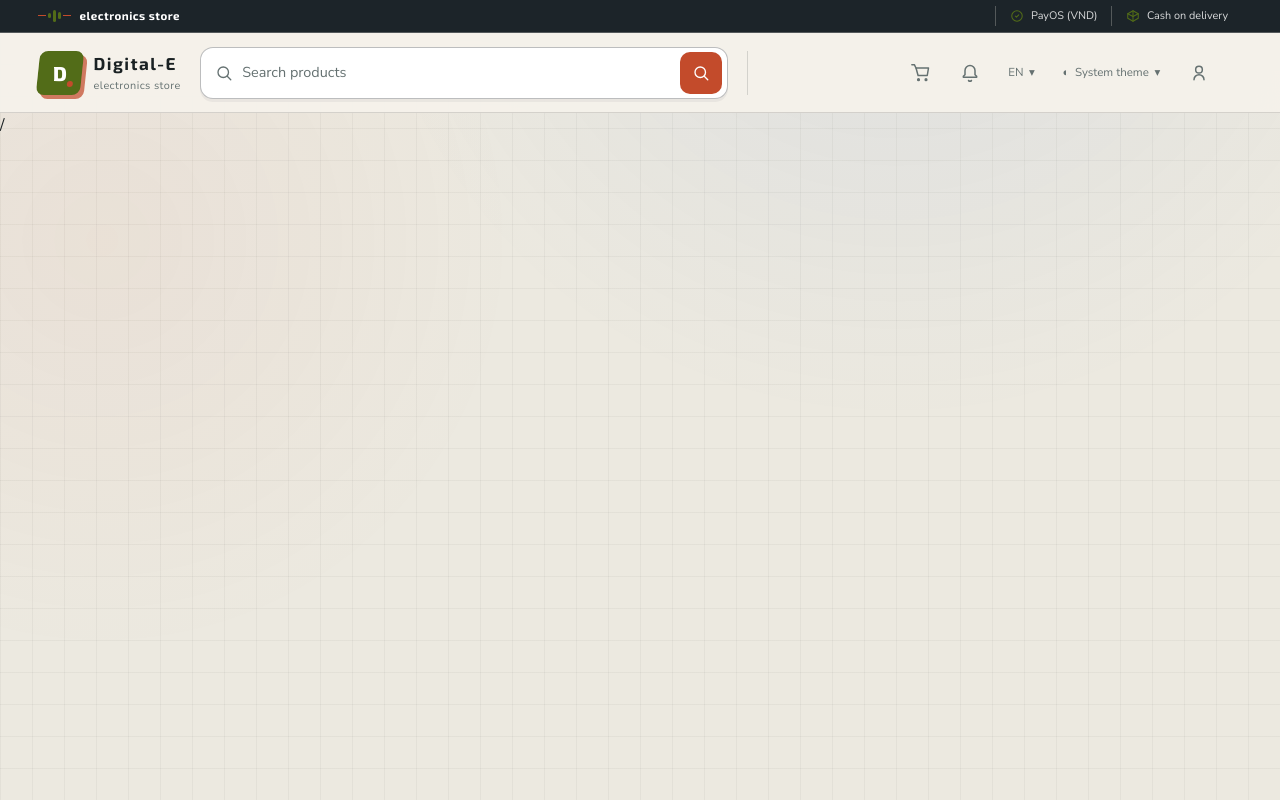
Test: Header navigation controls › opens a quick cart preview and lets a guest continue to the full cart
Click the button named "Open cart preview" at (921, 73), box [899, 51, 943, 95]
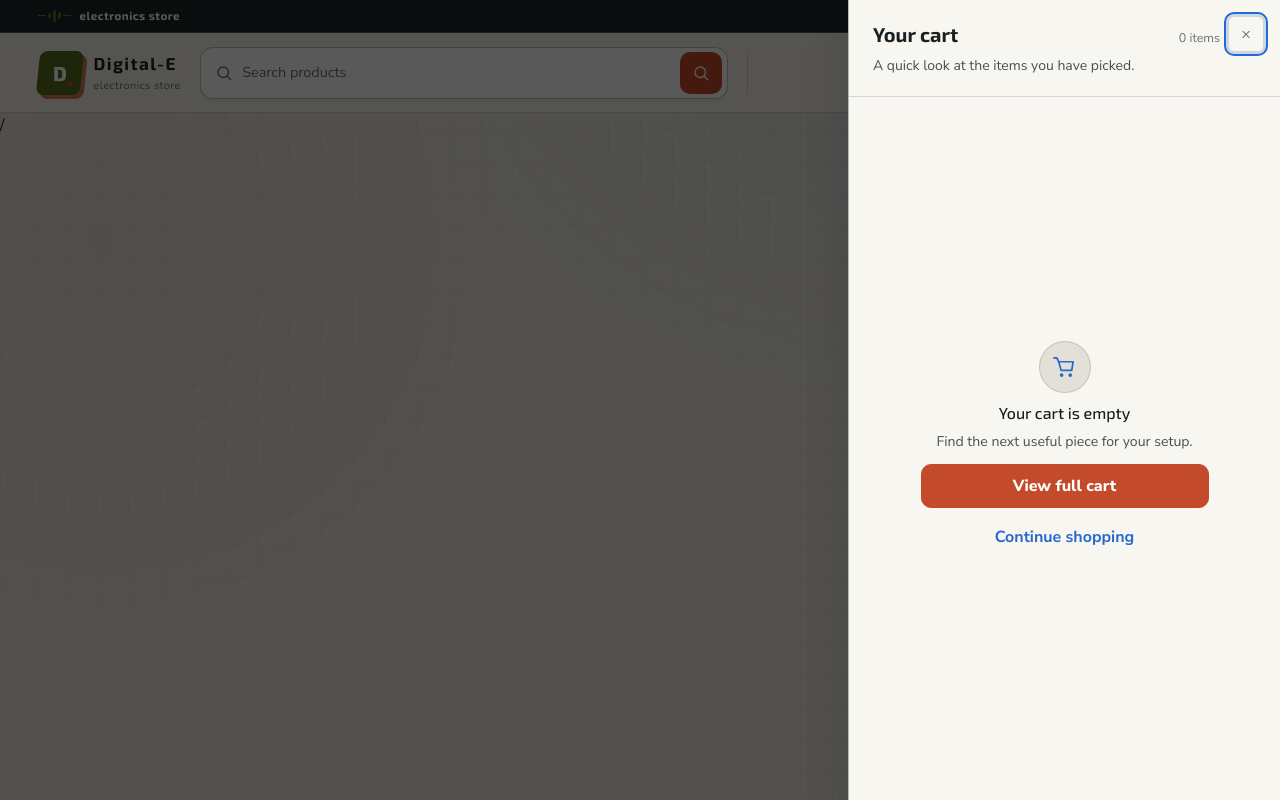
Check: the dialog "Your cart" is shown, box [848, 0, 1279, 799]
Check: the heading "Your cart is empty" is shown, box [999, 404, 1130, 421]
Click the link "View full cart" at (1064, 486), box [920, 464, 1208, 508]
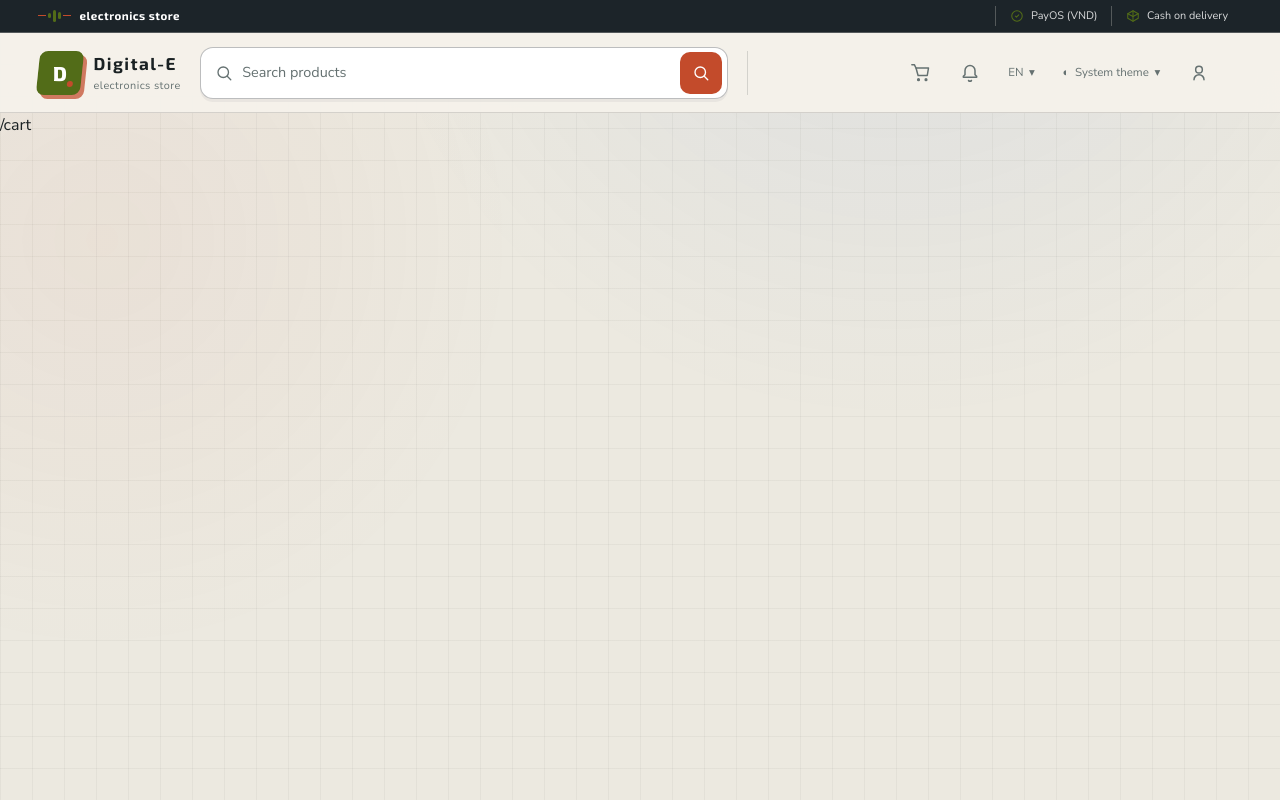
Check: the text with test id "location" reads "/cart", box [0, 114, 31, 136]
